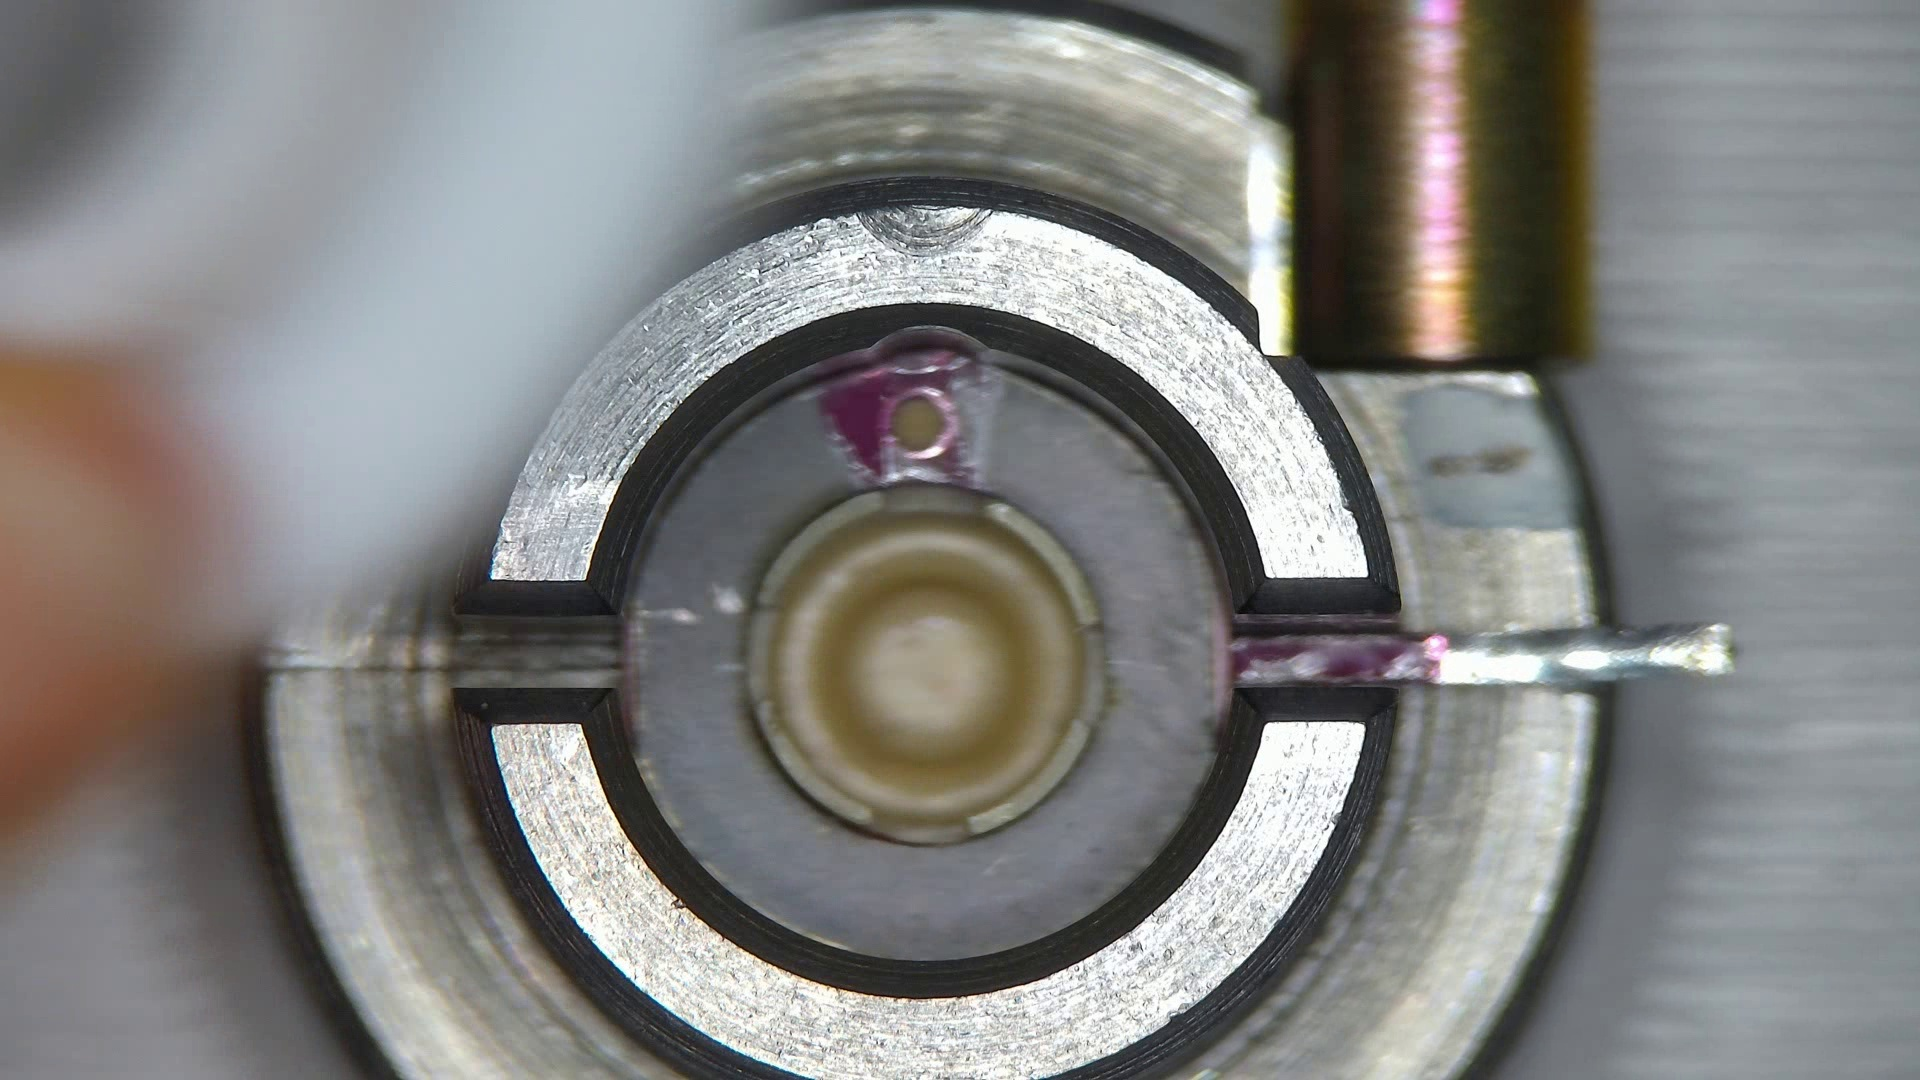YellowOring: (628, 349, 1222, 963)
